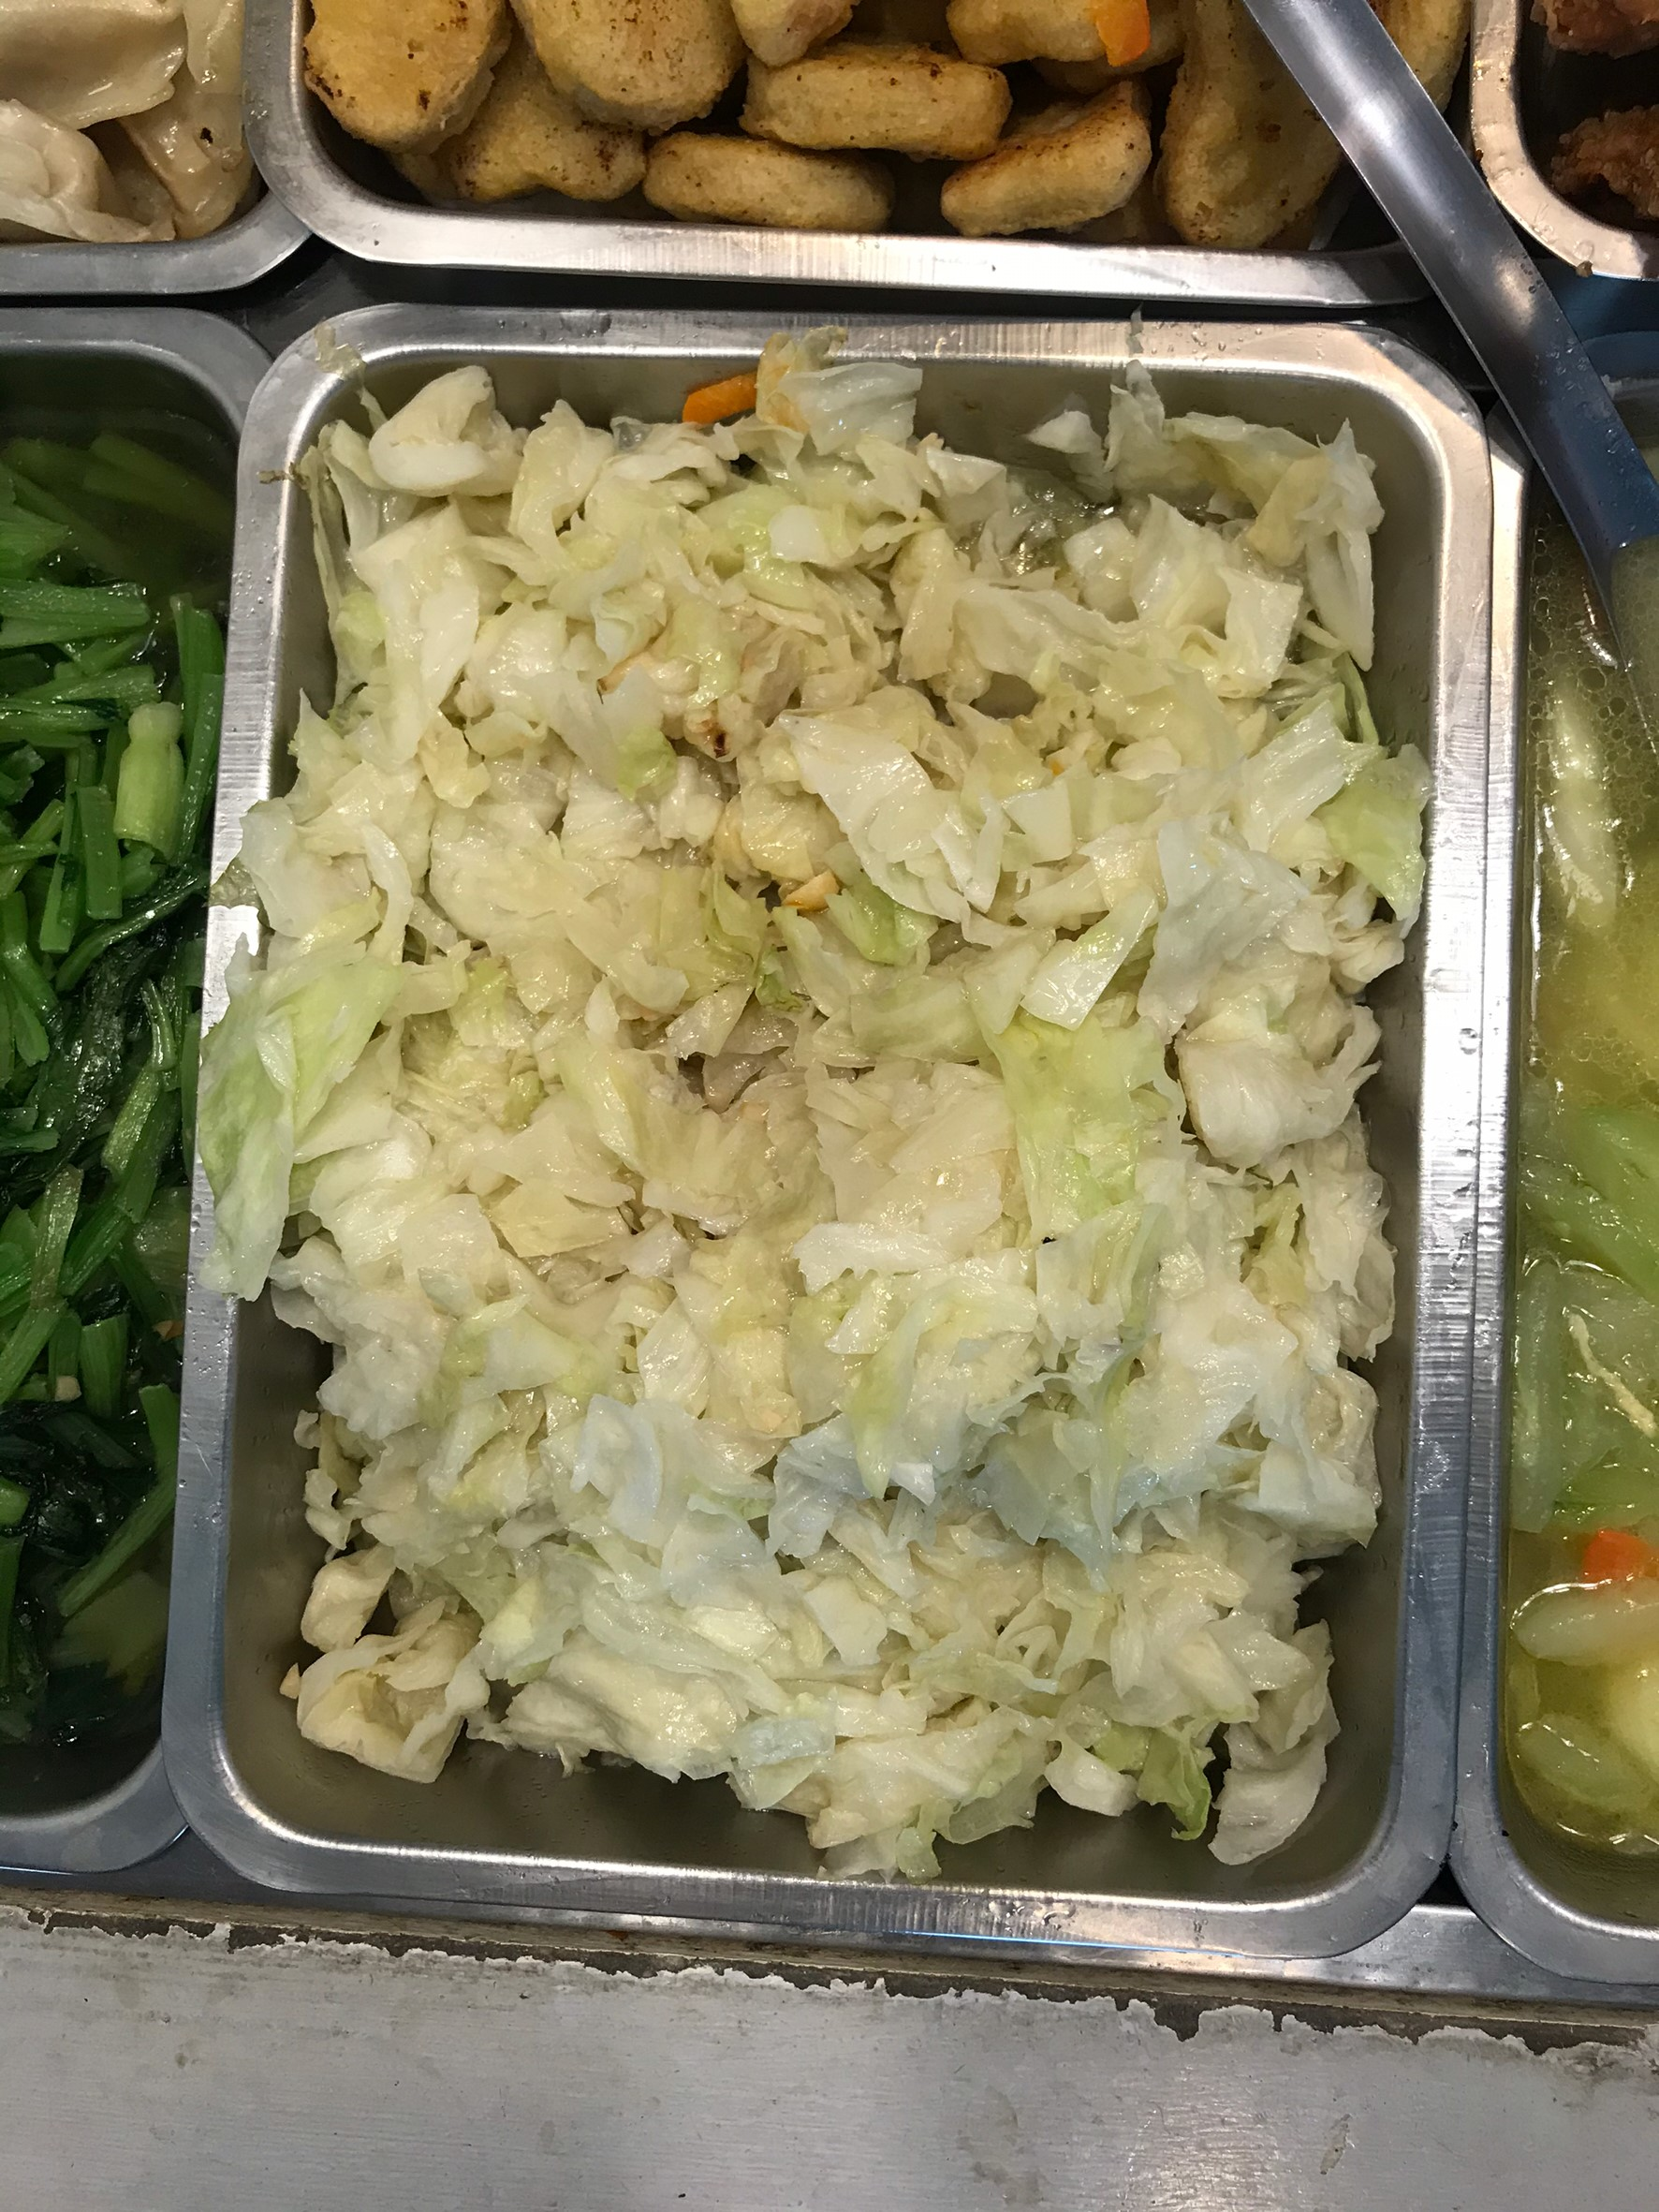chicken_nuggets: (315, 2, 1227, 220)
chinese_cabbage: (366, 444, 1364, 1705)
water_spinach: (3, 427, 159, 1748)
